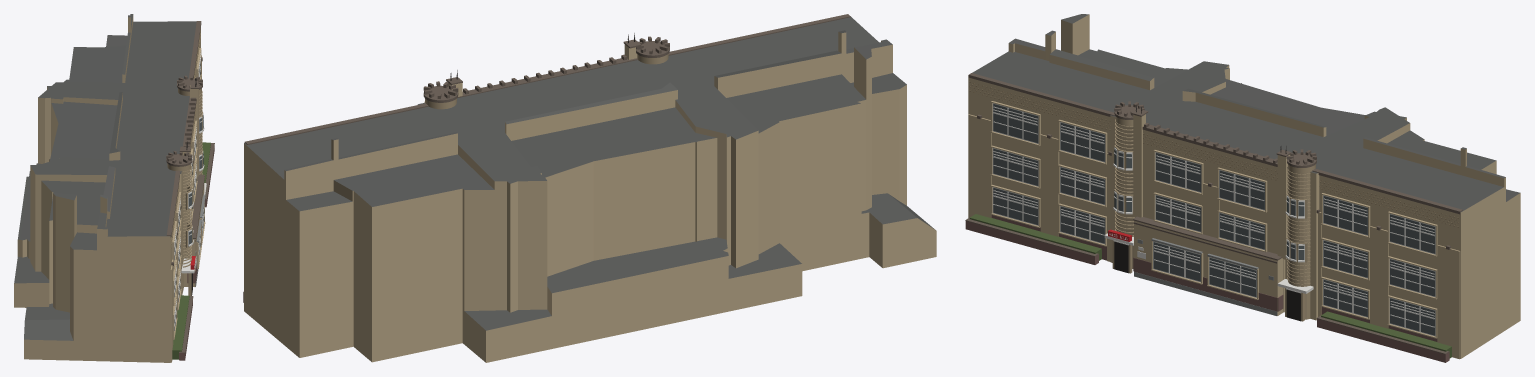
File: olympus-hygieaplein.glb
3 renders of one model, left to right at view 1: azimuth 30°, elevation 25°; view 2: azimuth 150°, elevation 25°; view 3: azimuth 270°, elevation 25°, orthographic. The views are drawn at different scales.
Visible parts, largest first — view 1: olympus-hygieaplein; view 2: olympus-hygieaplein; view 3: olympus-hygieaplein.
Part boxes in pixels (box(x1,y1,x2,y2)): olympus-hygieaplein: box(14, 14, 214, 362); olympus-hygieaplein: box(243, 14, 936, 362); olympus-hygieaplein: box(965, 14, 1520, 362).
Bounding box in the file's own units: 42.5 × 16.91 × 49.49.
